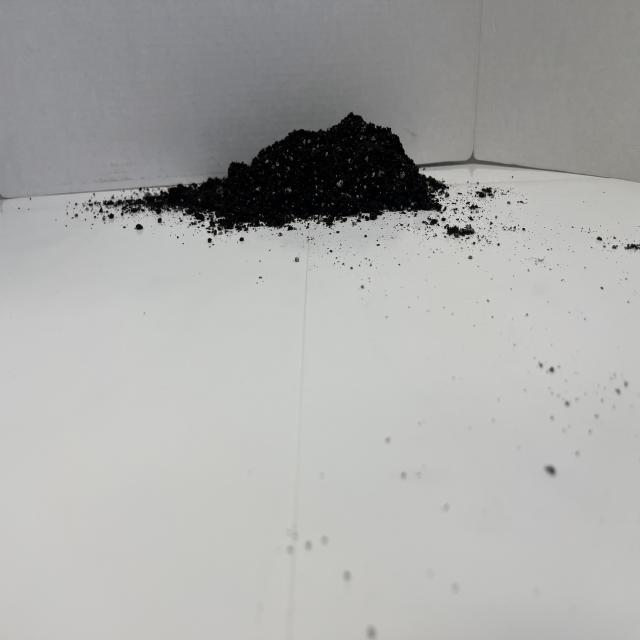soil: (132, 97, 489, 250)
